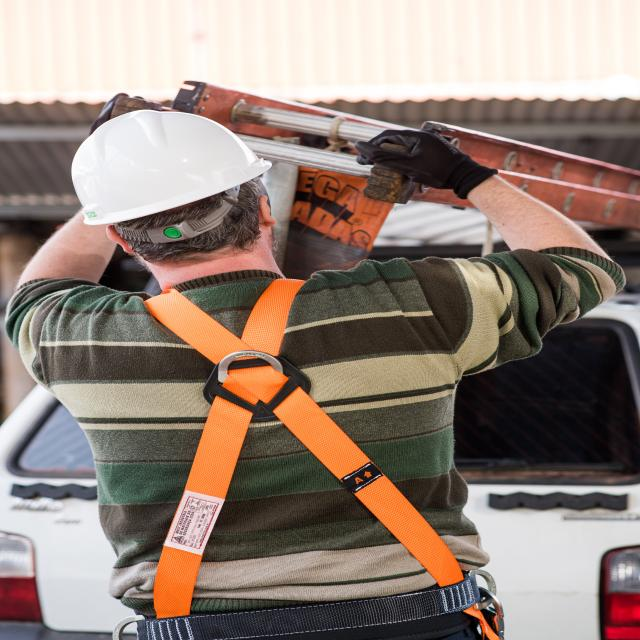capacete: (60, 100, 276, 231)
luva: (347, 126, 512, 206)
